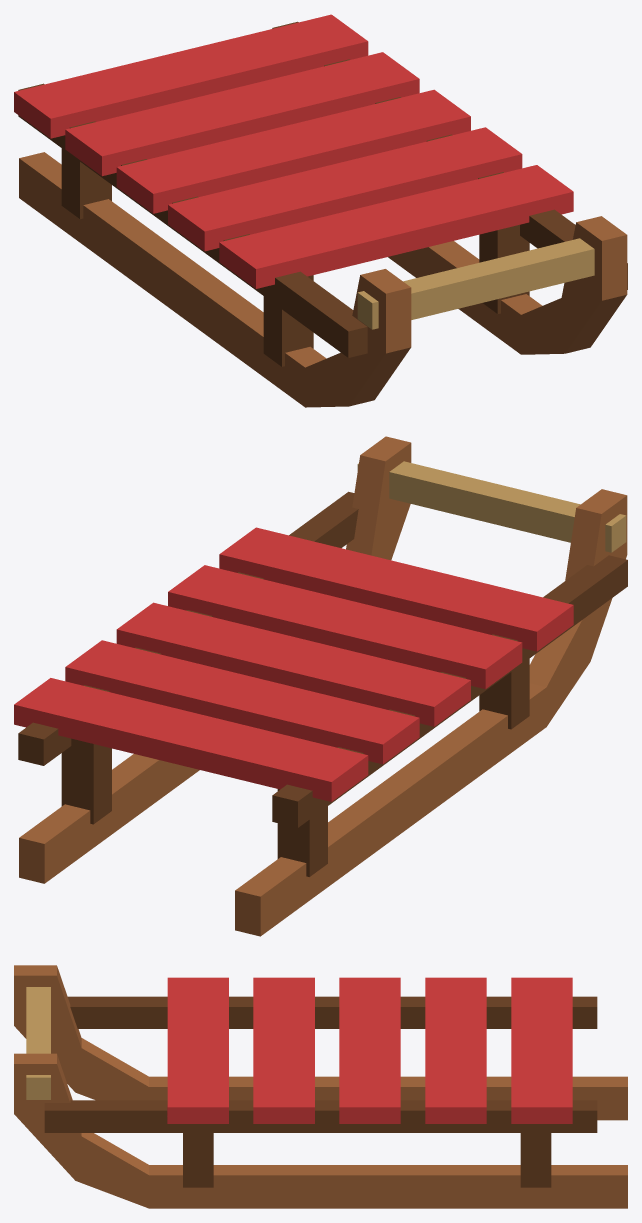
Rendered from sled-1x1.glb.
3 renders of one model, top to bottom at view 1: azimuth 30°, elevation 25°; view 2: azimuth 150°, elevation 25°; view 3: azimuth 270°, elevation 25°, orthographic. The views are drawn at different scales.
Visible parts, largest first — view 1: sled-1x1; view 2: sled-1x1; view 3: sled-1x1.
Boxes of the visible parts, x1=… form: sled-1x1: x1=14, y1=14, x2=627, y2=407; sled-1x1: x1=14, y1=436, x2=627, y2=936; sled-1x1: x1=14, y1=965, x2=627, y2=1208.
Bounding box in the file's own units: 0.45 × 0.234 × 0.9.
Materials: 1 (1 with a texture image).
